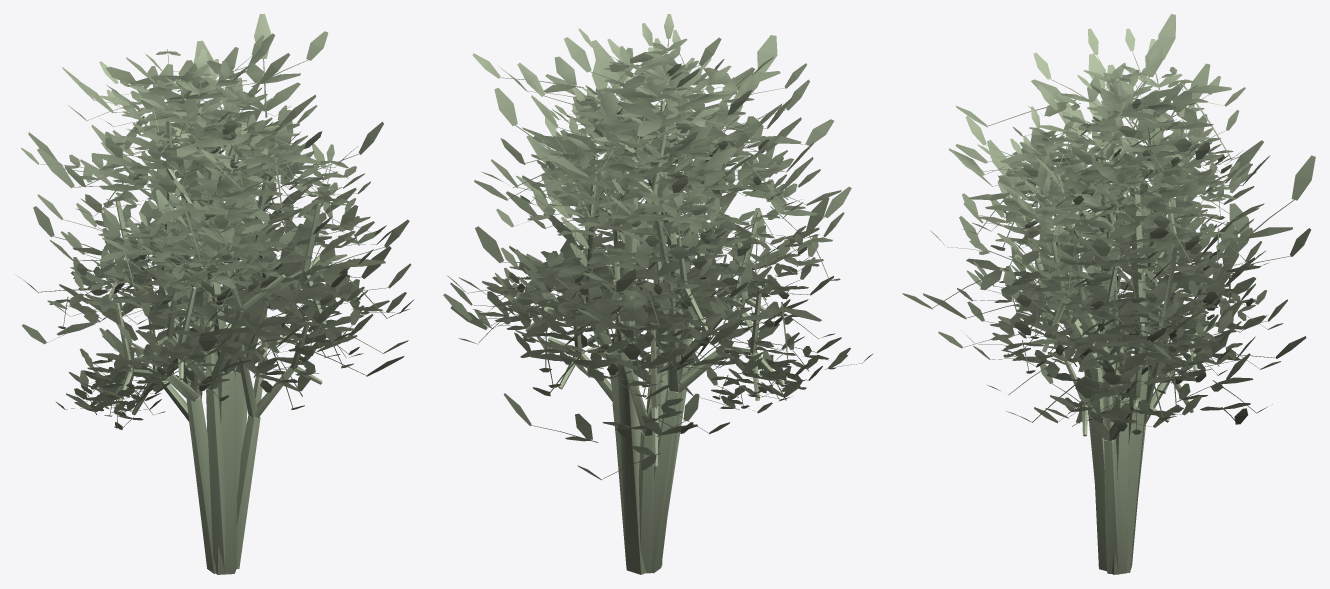
The model's file is tree_boxelder.glb.
3 renders of one model, left to right at view 1: azimuth 30°, elevation 25°; view 2: azimuth 150°, elevation 25°; view 3: azimuth 270°, elevation 25°, orthographic. The views are drawn at different scales.
Visible parts, largest first — view 1: tier0_foliage, tier2_foliage, tier1_foliage, tier1_bark, tier2_bark, tier0_bark; view 2: tier0_foliage, tier2_foliage, tier1_foliage, tier2_bark, tier1_bark, tier0_bark; view 3: tier0_foliage, tier2_foliage, tier1_foliage, tier1_bark, tier0_bark, tier2_bark.
Boxes of the visible parts, left/top/right/bottom form: tier0_foliage: left=18, top=14, right=410, bottom=377; tier2_foliage: left=21, top=35, right=414, bottom=429; tier1_foliage: left=22, top=49, right=411, bottom=413; tier1_bark: left=128, top=144, right=322, bottom=571; tier2_bark: left=109, top=117, right=326, bottom=573; tier0_bark: left=205, top=172, right=245, bottom=574; tier0_foliage: left=450, top=35, right=834, bottom=399; tier2_foliage: left=447, top=14, right=873, bottom=413; tier1_foliage: left=443, top=47, right=851, bottom=480; tier2_bark: left=525, top=100, right=784, bottom=573; tier1_bark: left=548, top=131, right=761, bottom=573; tier0_bark: left=604, top=159, right=667, bottom=574; tier0_foliage: left=902, top=14, right=1315, bottom=422; tier2_foliage: left=957, top=28, right=1283, bottom=393; tier1_foliage: left=930, top=39, right=1287, bottom=434; tier1_bark: left=1014, top=153, right=1193, bottom=574; tier0_bark: left=1064, top=185, right=1157, bottom=572; tier2_bark: left=1042, top=129, right=1216, bottom=574.
Size of the model in its own units: 0.732 by 1 by 0.76.
